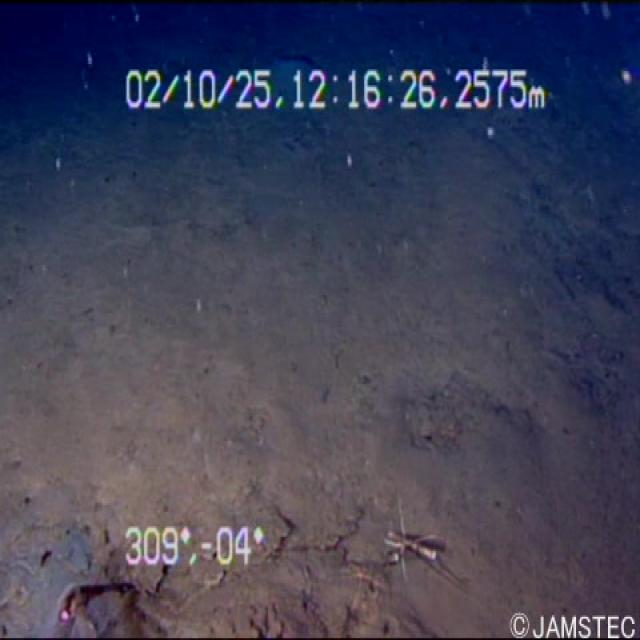plastic: (43, 550, 164, 638)
